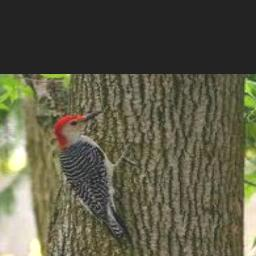Woodpecker: (54, 109, 137, 240)
